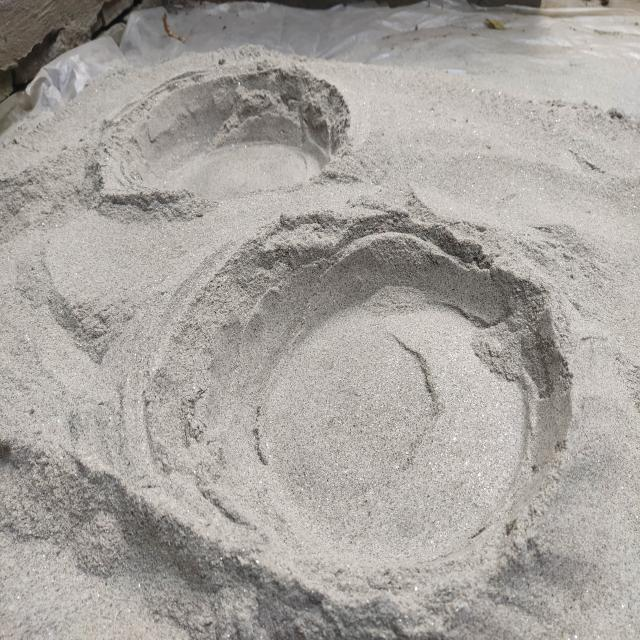C20: (165, 213, 598, 605), (96, 67, 349, 212)
